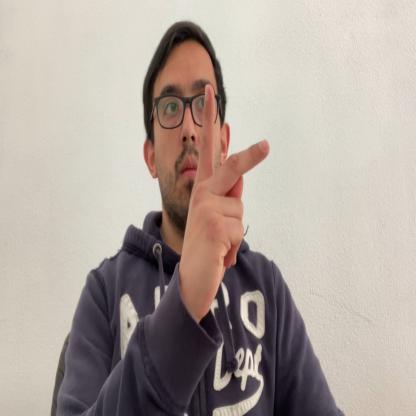P: (181, 84, 270, 317)
